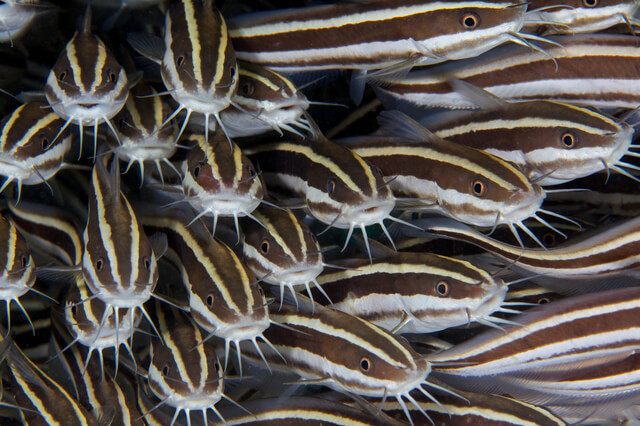gonzui: (236, 1, 532, 64), (317, 258, 510, 330)
